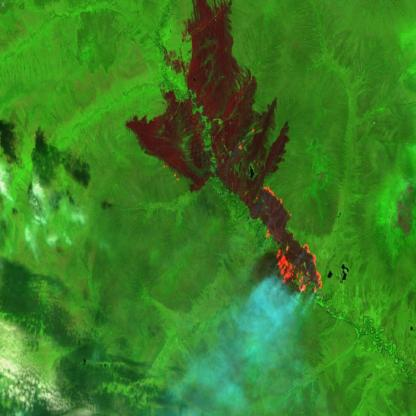fire: (252, 182, 324, 299)
